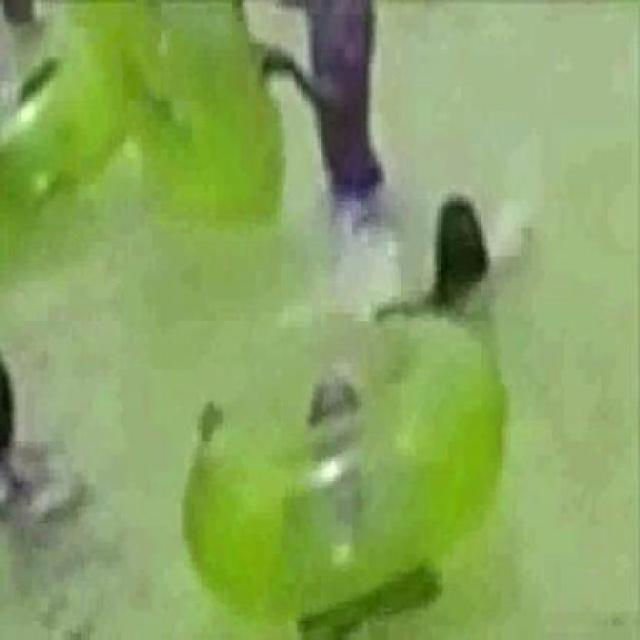drowning: (347, 187, 558, 330)
